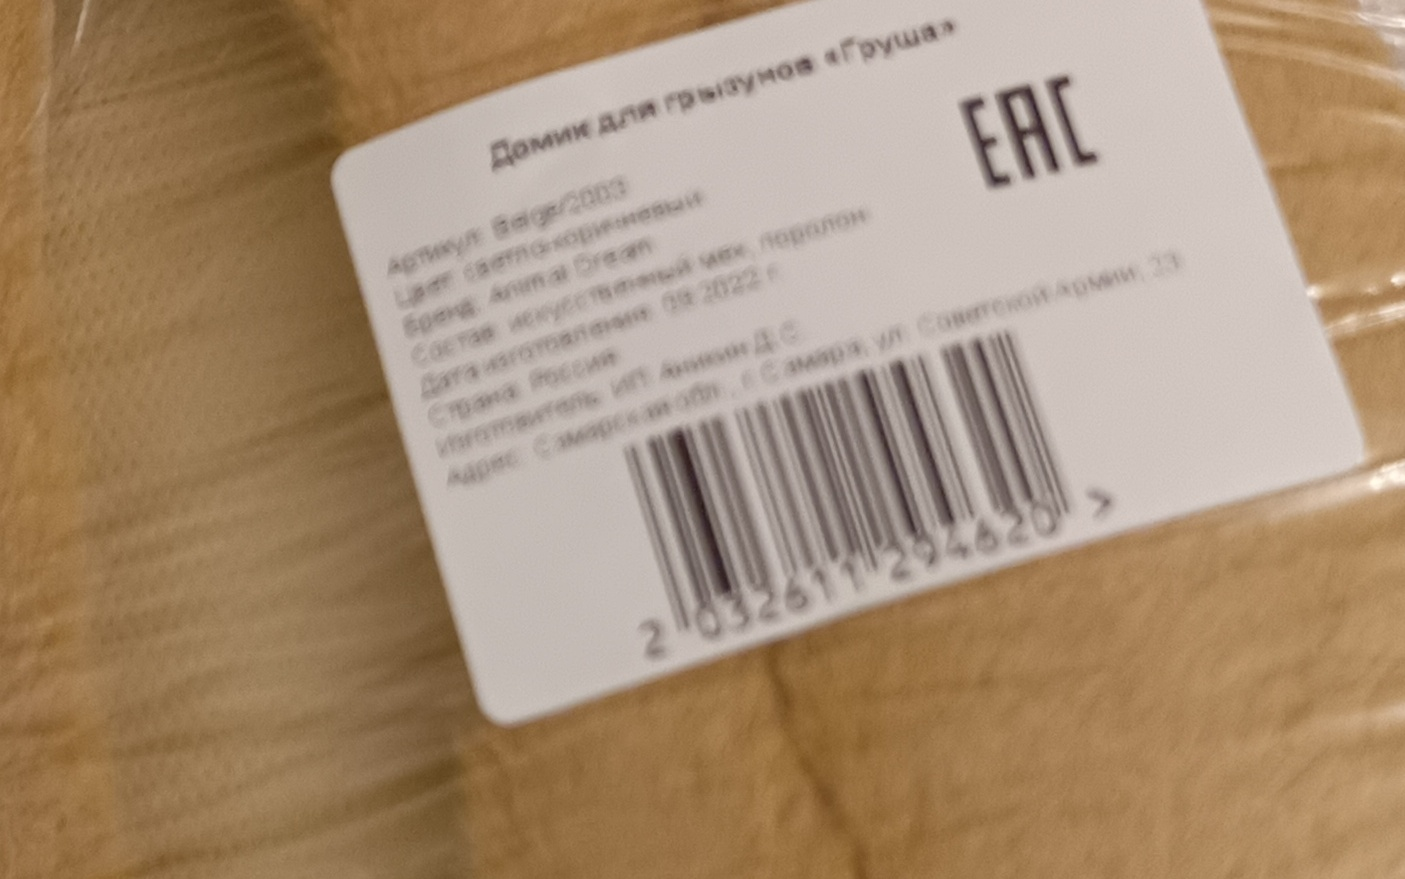1d: (609, 317, 1076, 628)
